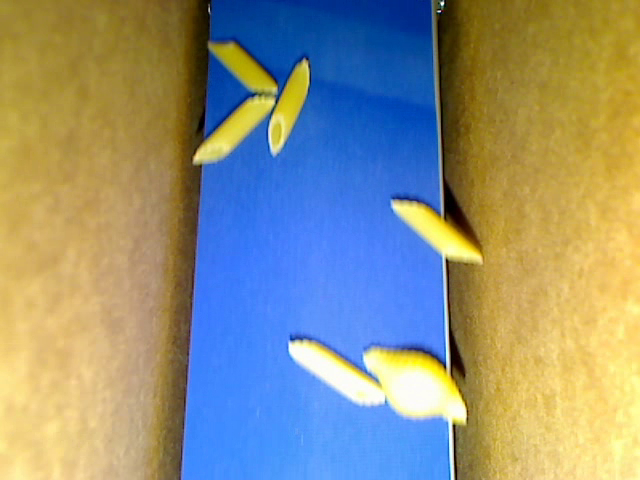penne: (287, 337, 386, 406), (389, 198, 483, 262), (191, 94, 276, 164), (267, 57, 310, 156), (208, 42, 279, 91)
shell: (362, 346, 468, 425)
